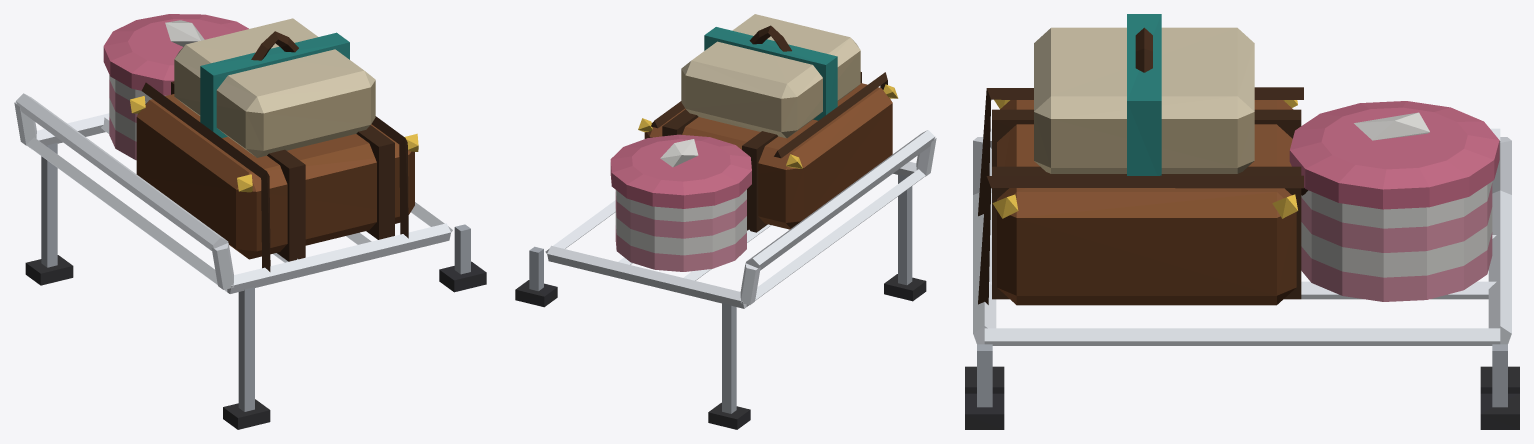
File: gd_car_roofrack.glb
The picture shows the model from 3 angles, left to right: view 1: azimuth 30°, elevation 25°; view 2: azimuth 150°, elevation 25°; view 3: azimuth 270°, elevation 25°; orthographic projection. The views are drawn at different scales.
Parts seen in each view (by area): view 1: base; view 2: base; view 3: base.
Boxes of the visible parts, x1,y1,x2,y2 form: base: [14, 14, 486, 429]; base: [515, 14, 936, 429]; base: [965, 14, 1519, 429].
Size of the model in its own units: 0.1638 by 0.1897 by 0.226.
